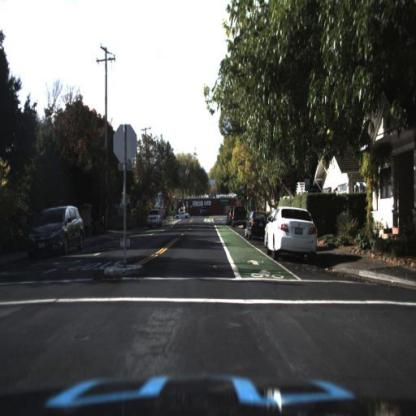car: (23, 192, 84, 251), (262, 205, 319, 262), (243, 212, 268, 246), (233, 205, 250, 230), (144, 205, 162, 228), (172, 209, 193, 222)
